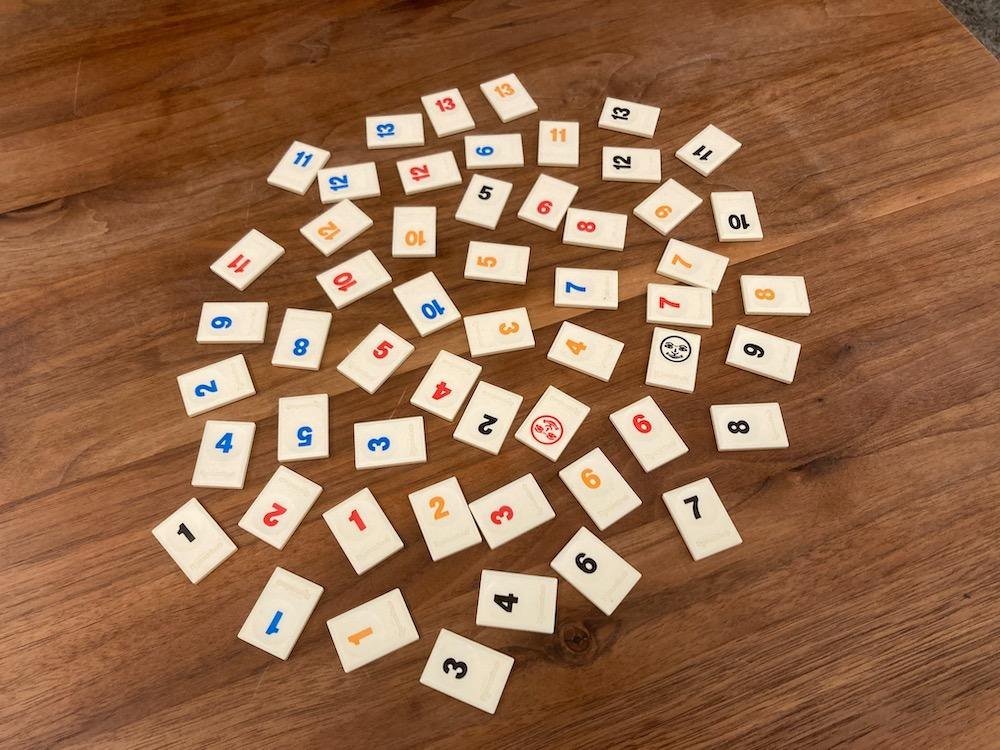black_1: (152, 498, 236, 584)
black_10: (711, 191, 764, 242)
black_11: (676, 125, 742, 176)
black_12: (603, 146, 660, 184)
black_13: (599, 98, 659, 138)
black_2: (453, 381, 523, 455)
black_3: (420, 629, 514, 713)
black_4: (478, 570, 556, 633)
black_5: (455, 174, 512, 230)
black_6: (551, 527, 641, 615)
black_7: (662, 479, 742, 561)
black_8: (711, 402, 789, 451)
black_9: (728, 324, 800, 383)
blue_1: (238, 566, 322, 660)
blue_10: (393, 271, 461, 336)
blue_11: (268, 142, 330, 195)
blue_12: (318, 162, 381, 203)
blue_13: (366, 113, 424, 148)
blue_2: (178, 354, 256, 416)
blue_3: (354, 416, 426, 469)
blue_4: (193, 420, 256, 488)
blue_5: (277, 396, 328, 461)
blue_6: (468, 133, 523, 170)
blue_7: (556, 268, 617, 308)
blue_8: (271, 309, 332, 369)
blue_9: (197, 303, 267, 344)
joker: (517, 387, 590, 461), (645, 326, 701, 393)
orange_1: (326, 588, 418, 672)
orange_10: (393, 208, 436, 258)
orange_11: (537, 122, 580, 168)
orange_12: (301, 199, 373, 256)
orange_13: (481, 74, 537, 123)
orange_2: (408, 477, 482, 561)
orange_3: (463, 307, 535, 357)
orange_4: (547, 322, 623, 381)
orange_5: (466, 240, 528, 284)
orange_6: (559, 447, 641, 529)
orange_7: (657, 238, 729, 293)
orange_8: (741, 275, 811, 314)
orange_9: (633, 178, 701, 234)
red_1: (322, 488, 404, 574)
red_10: (317, 250, 393, 309)
red_11: (211, 229, 285, 291)
red_12: (397, 150, 463, 195)
red_13: (423, 88, 475, 137)
red_2: (238, 467, 322, 549)
red_3: (470, 475, 555, 549)
red_4: (410, 350, 482, 422)
red_5: (338, 324, 414, 393)
red_6: (609, 396, 688, 473)
red_7: (647, 284, 713, 328)
red_8: (562, 207, 626, 252)
red_9: (519, 174, 578, 230)
